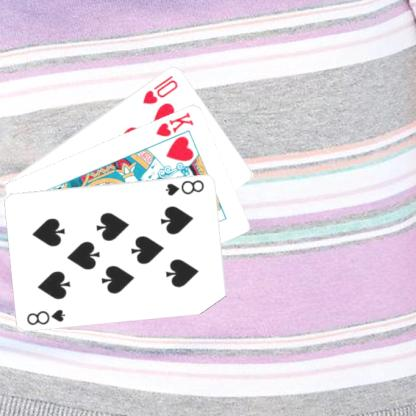10H: (140, 72, 179, 106)
8S: (24, 306, 67, 326), (162, 177, 206, 196)
KH: (153, 109, 195, 138)
